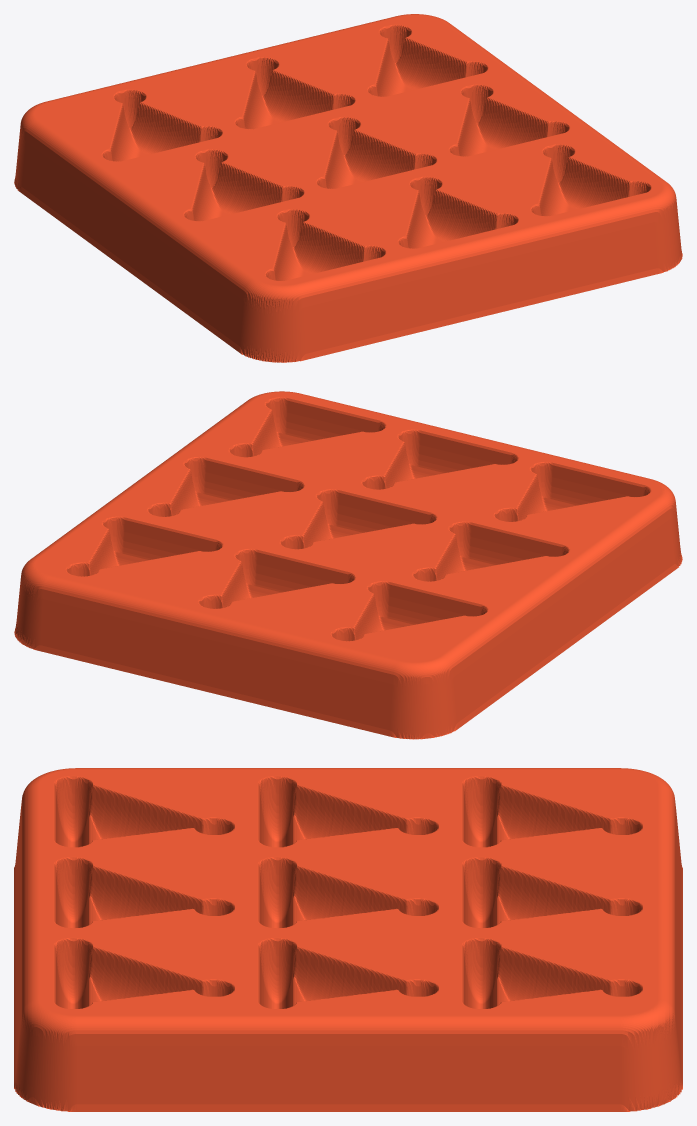
The model's file is mold.glb.
3 renders of one model, top to bottom at view 1: azimuth 30°, elevation 25°; view 2: azimuth 150°, elevation 25°; view 3: azimuth 270°, elevation 25°, orthographic. The views are drawn at different scales.
Parts seen in each view (by area): view 1: geometry_0; view 2: geometry_0; view 3: geometry_0.
Part boxes in pixels (bbox=[...]): geometry_0: bbox=[14, 14, 682, 362]; geometry_0: bbox=[14, 391, 682, 739]; geometry_0: bbox=[14, 768, 682, 1111].
Bounding box in the file's own units: 0.091 × 0.0136 × 0.0964.
